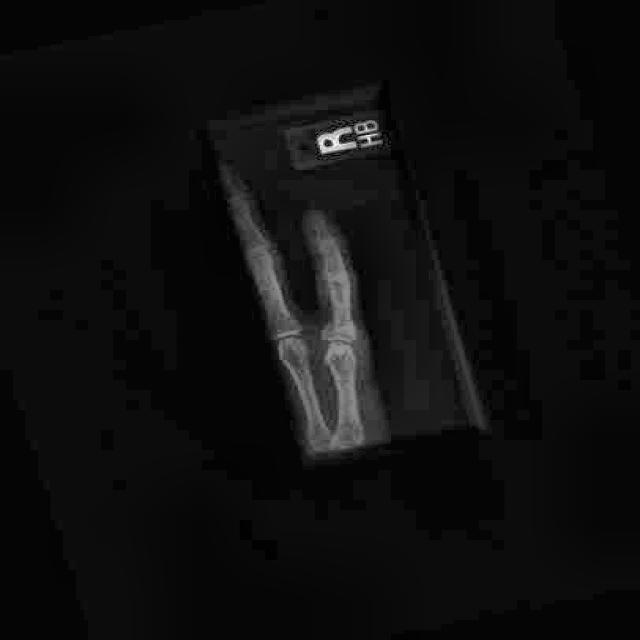fingers positive: (318, 318, 360, 345)
